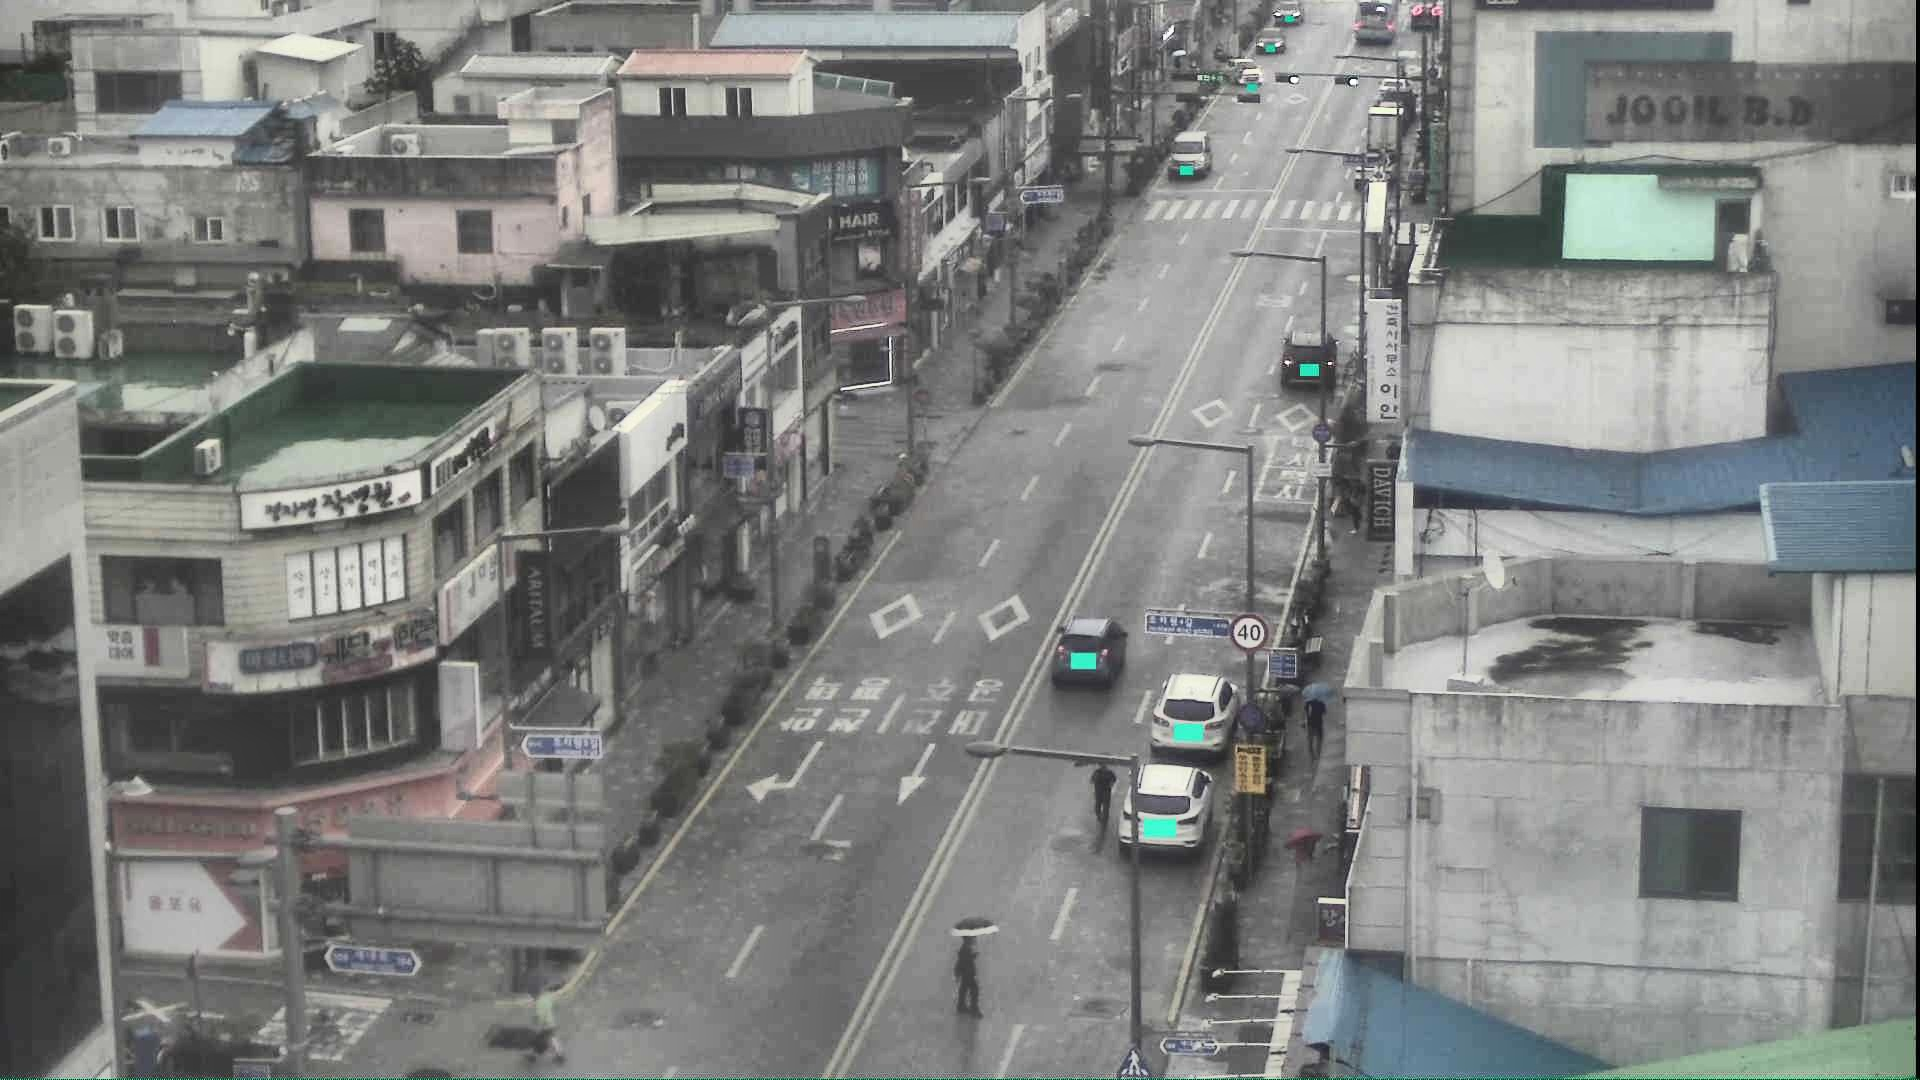um_jaywalk: (948, 913, 998, 1026), (512, 969, 568, 1062), (1077, 754, 1122, 836)
um_sidewalk: (1300, 680, 1338, 764), (1283, 825, 1325, 901), (1340, 476, 1370, 543), (1377, 433, 1400, 465)
